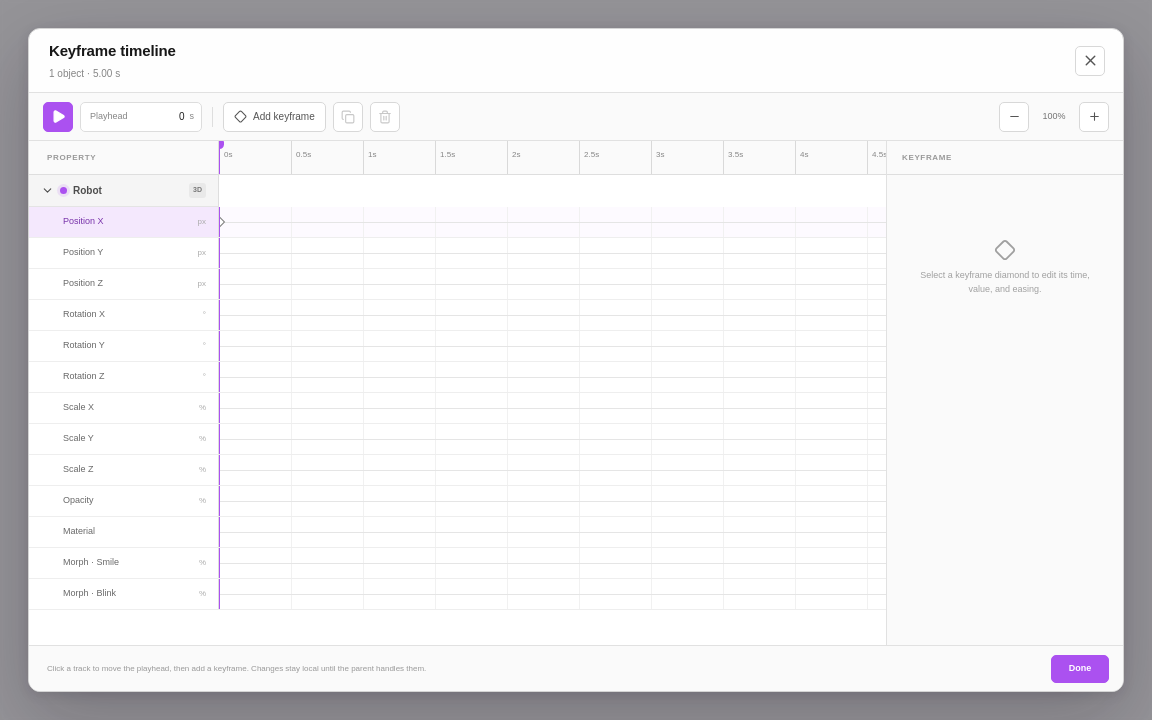
KeyframeTimelineEditor › offers every easing and changes playback and zoom controls
Click the button named "Keyframe Robot Position X at 0.00 s" at (219,222), box [210,211,228,233]
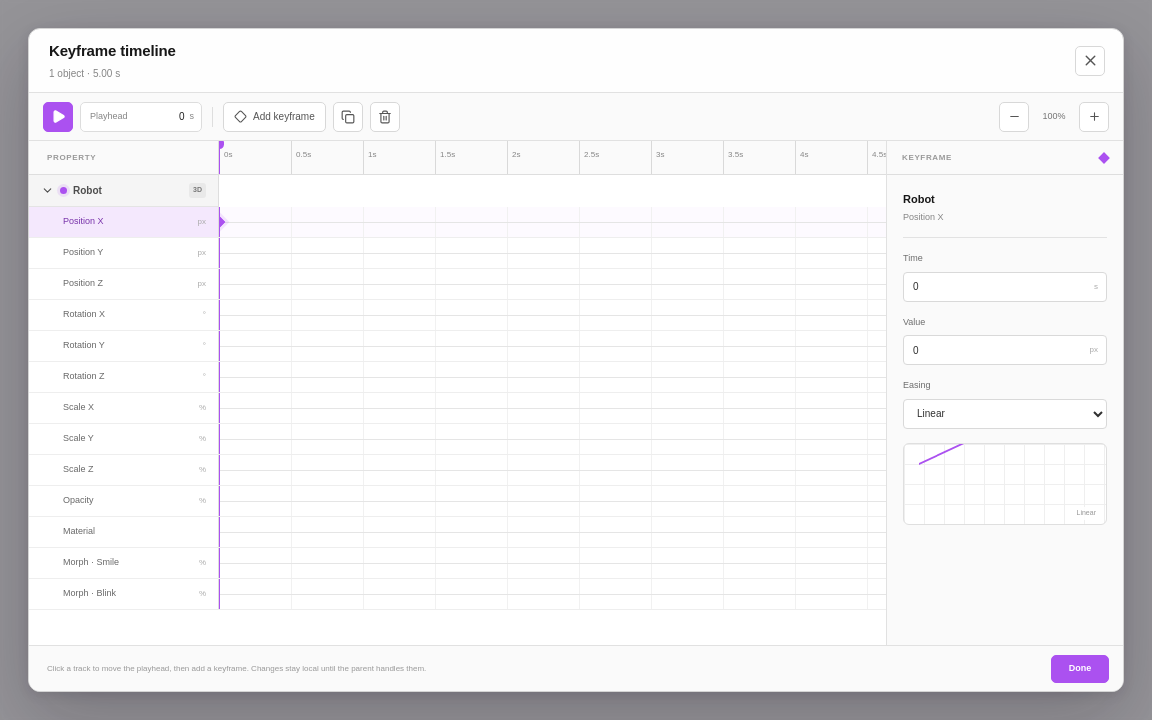
Click the button named "Play timeline" at (58,116), box [43,102,73,132]
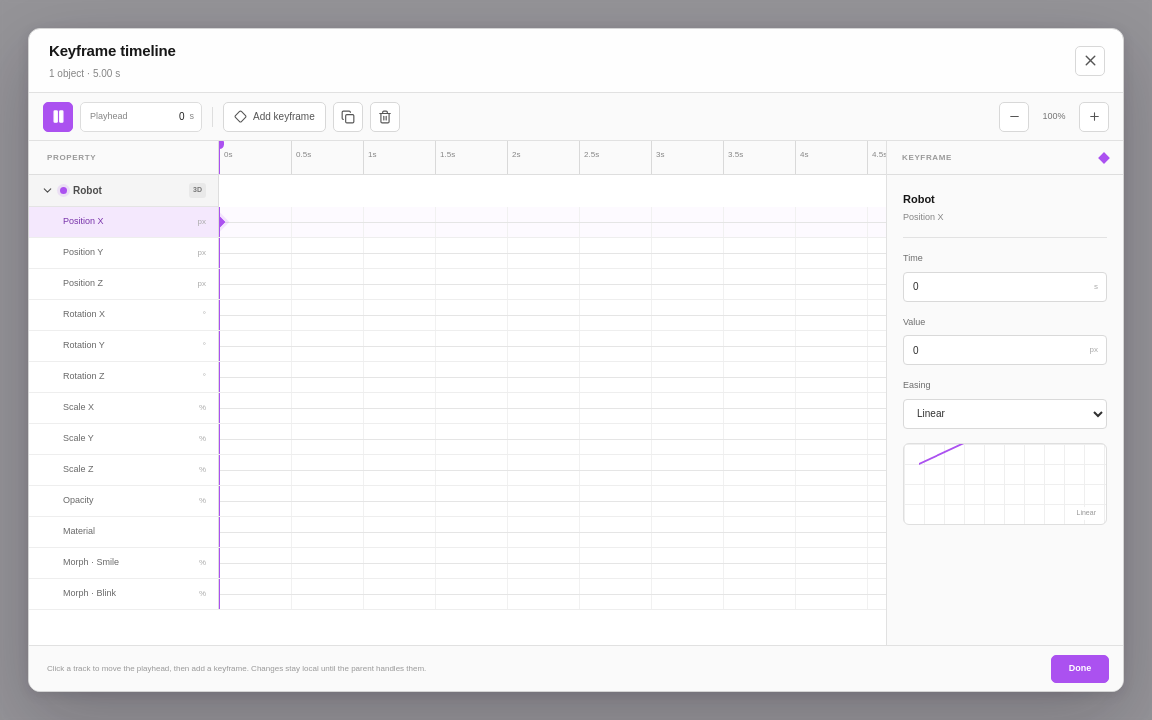
Now the button named "Pause timeline" is shown
Click the button named "Pause timeline" at (58,116), box [43,102,73,132]
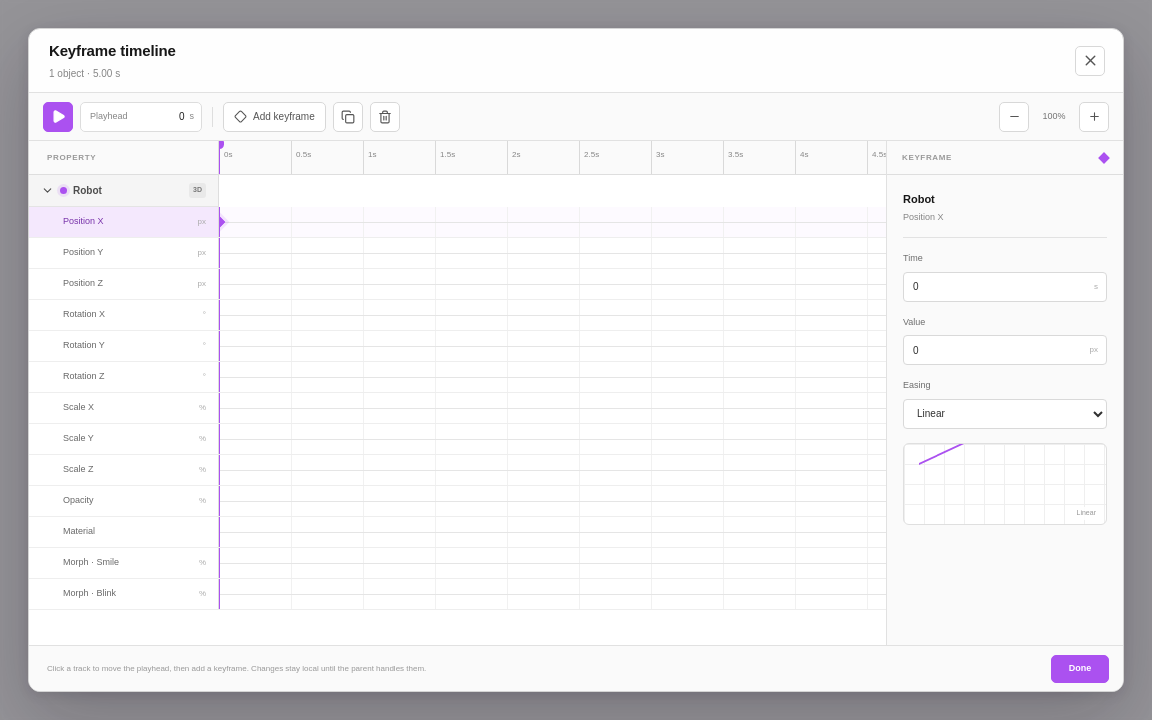
Click the button named "Zoom timeline in" at (1094,116), box [1079,102,1109,132]
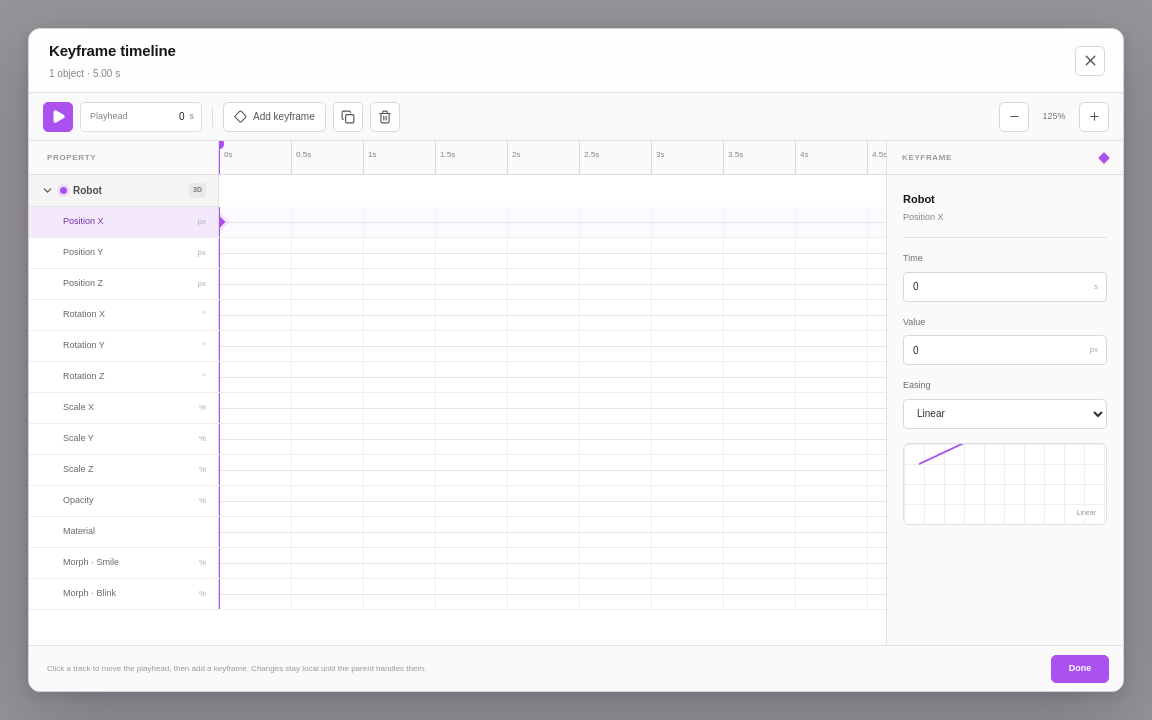
Now the text named "Timeline zoom" reads "125%", box [1042,111,1066,121]
